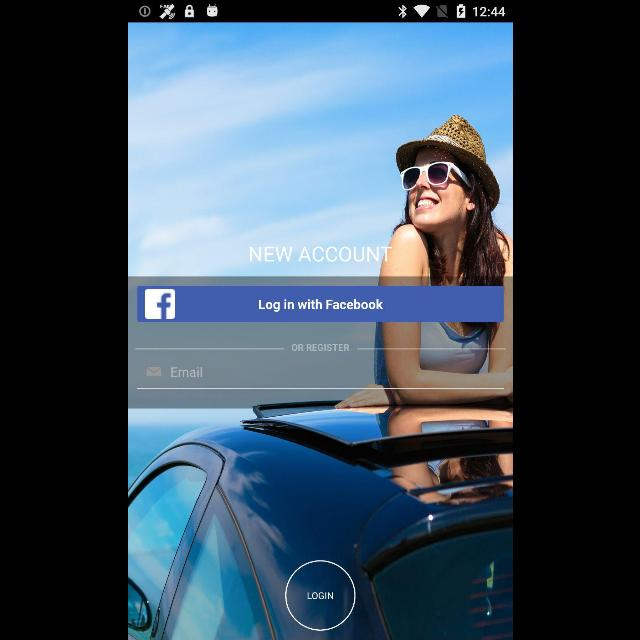backgroundimage: (128, 22, 512, 640)
icon: (146, 368, 160, 377)
input: (136, 366, 504, 389)
text: (248, 246, 392, 262), (291, 344, 349, 352), (170, 367, 202, 378)
textbutton: (137, 286, 503, 322), (285, 560, 355, 630)
uppertaskbar: (128, 1, 512, 23)
